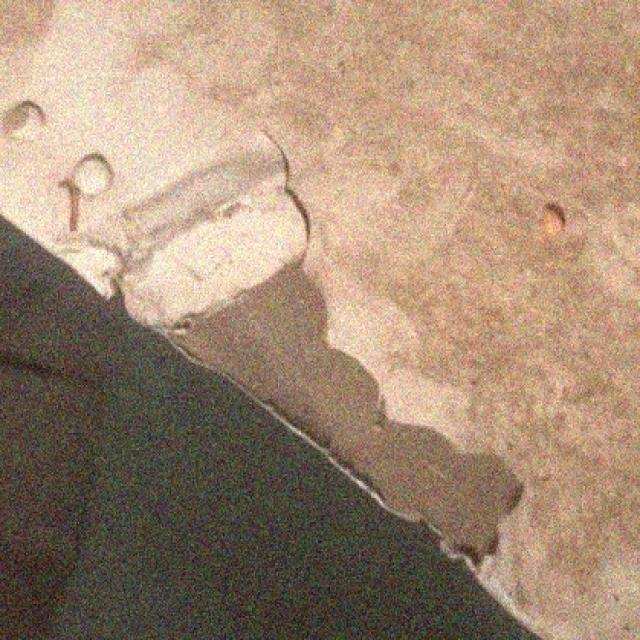crack: (260, 134, 297, 225)
